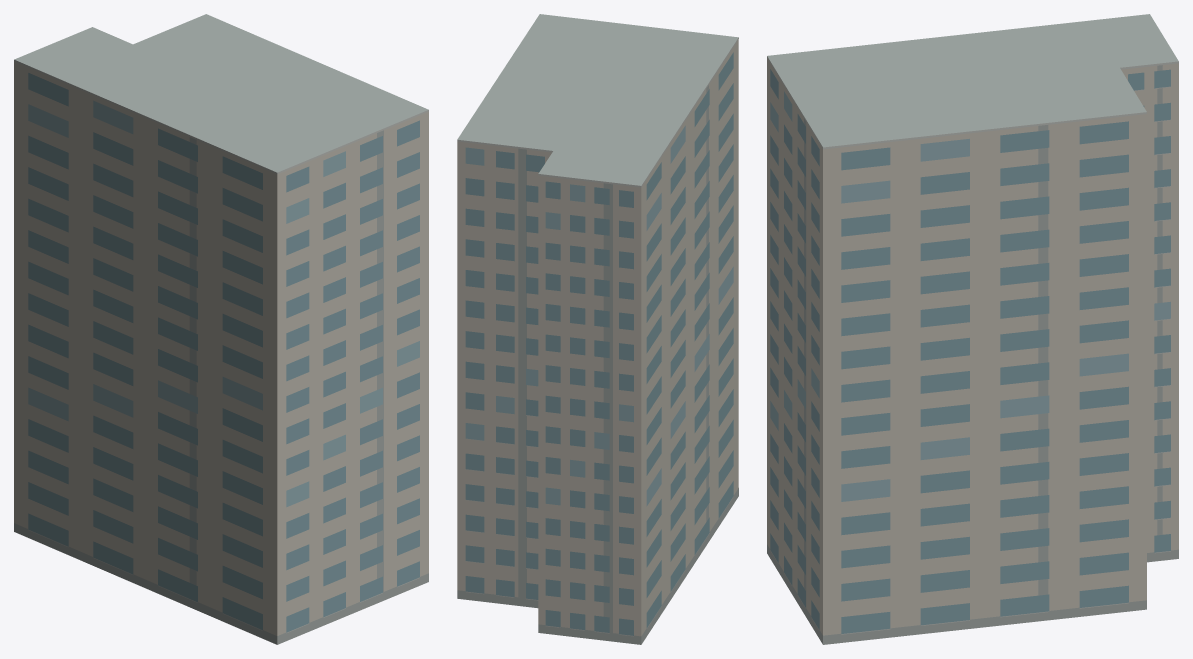
File: residential-f5789935-d906-4180-8f27-4151c0e8736f.glb
3 views of the same model, side by side, from view 1: azimuth 30°, elevation 25°; view 2: azimuth 150°, elevation 25°; view 3: azimuth 270°, elevation 25° (orthographic). The views are drawn at different scales.
Visible parts, largest first — view 1: residential-f5789935-d906-4180-8f27-4151c0e8736f.tmp; view 2: residential-f5789935-d906-4180-8f27-4151c0e8736f.tmp; view 3: residential-f5789935-d906-4180-8f27-4151c0e8736f.tmp.
Part boxes in pixels (x1,y1,x2,y2): residential-f5789935-d906-4180-8f27-4151c0e8736f.tmp: (14,14,428,644); residential-f5789935-d906-4180-8f27-4151c0e8736f.tmp: (457,14,738,644); residential-f5789935-d906-4180-8f27-4151c0e8736f.tmp: (767,14,1178,644).
Size of the model in its own units: 36.25 by 63 by 47.28.
